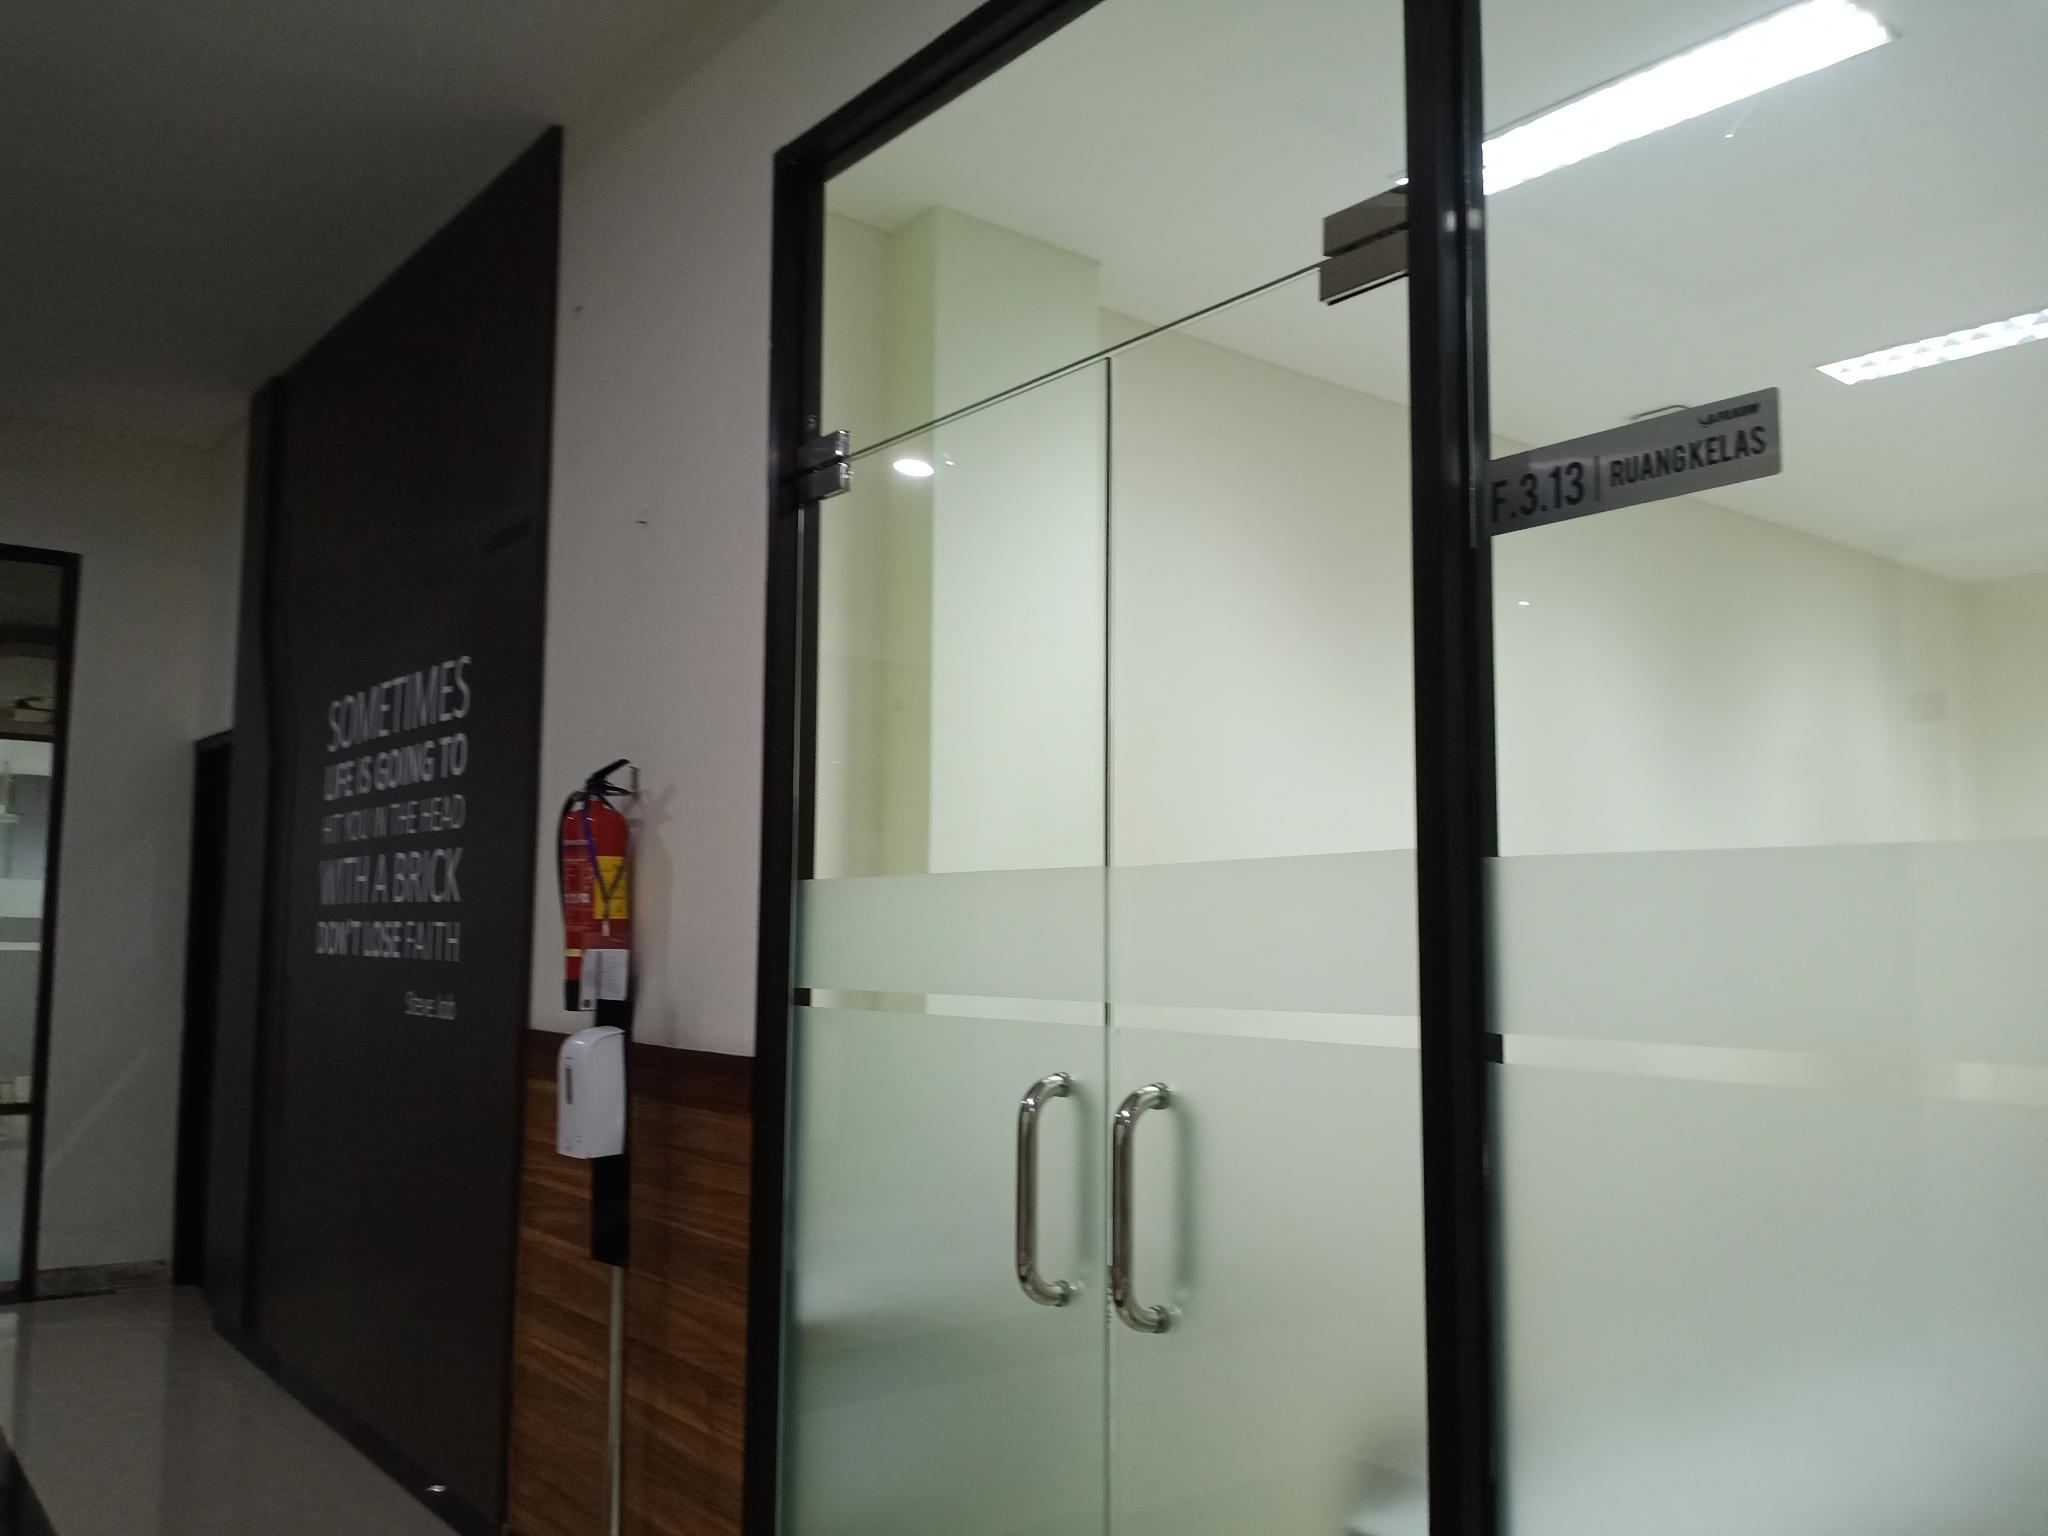plate: (1482, 386, 1783, 542)
